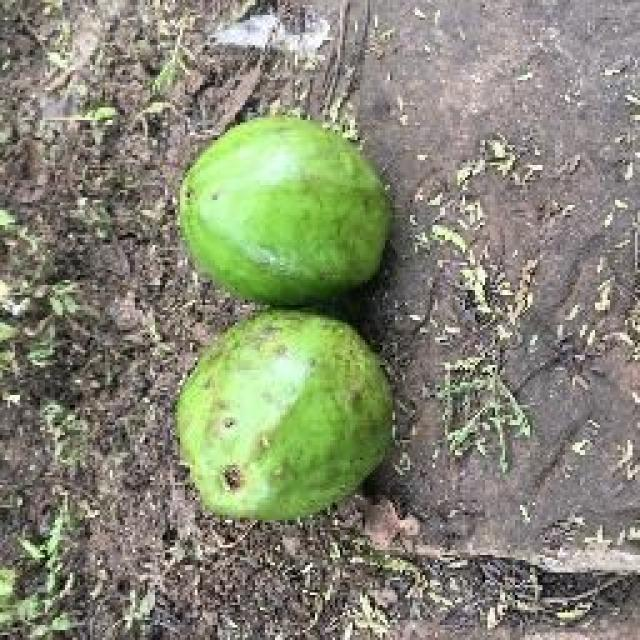Good_Guava: (175, 310, 392, 520), (178, 118, 392, 308)
